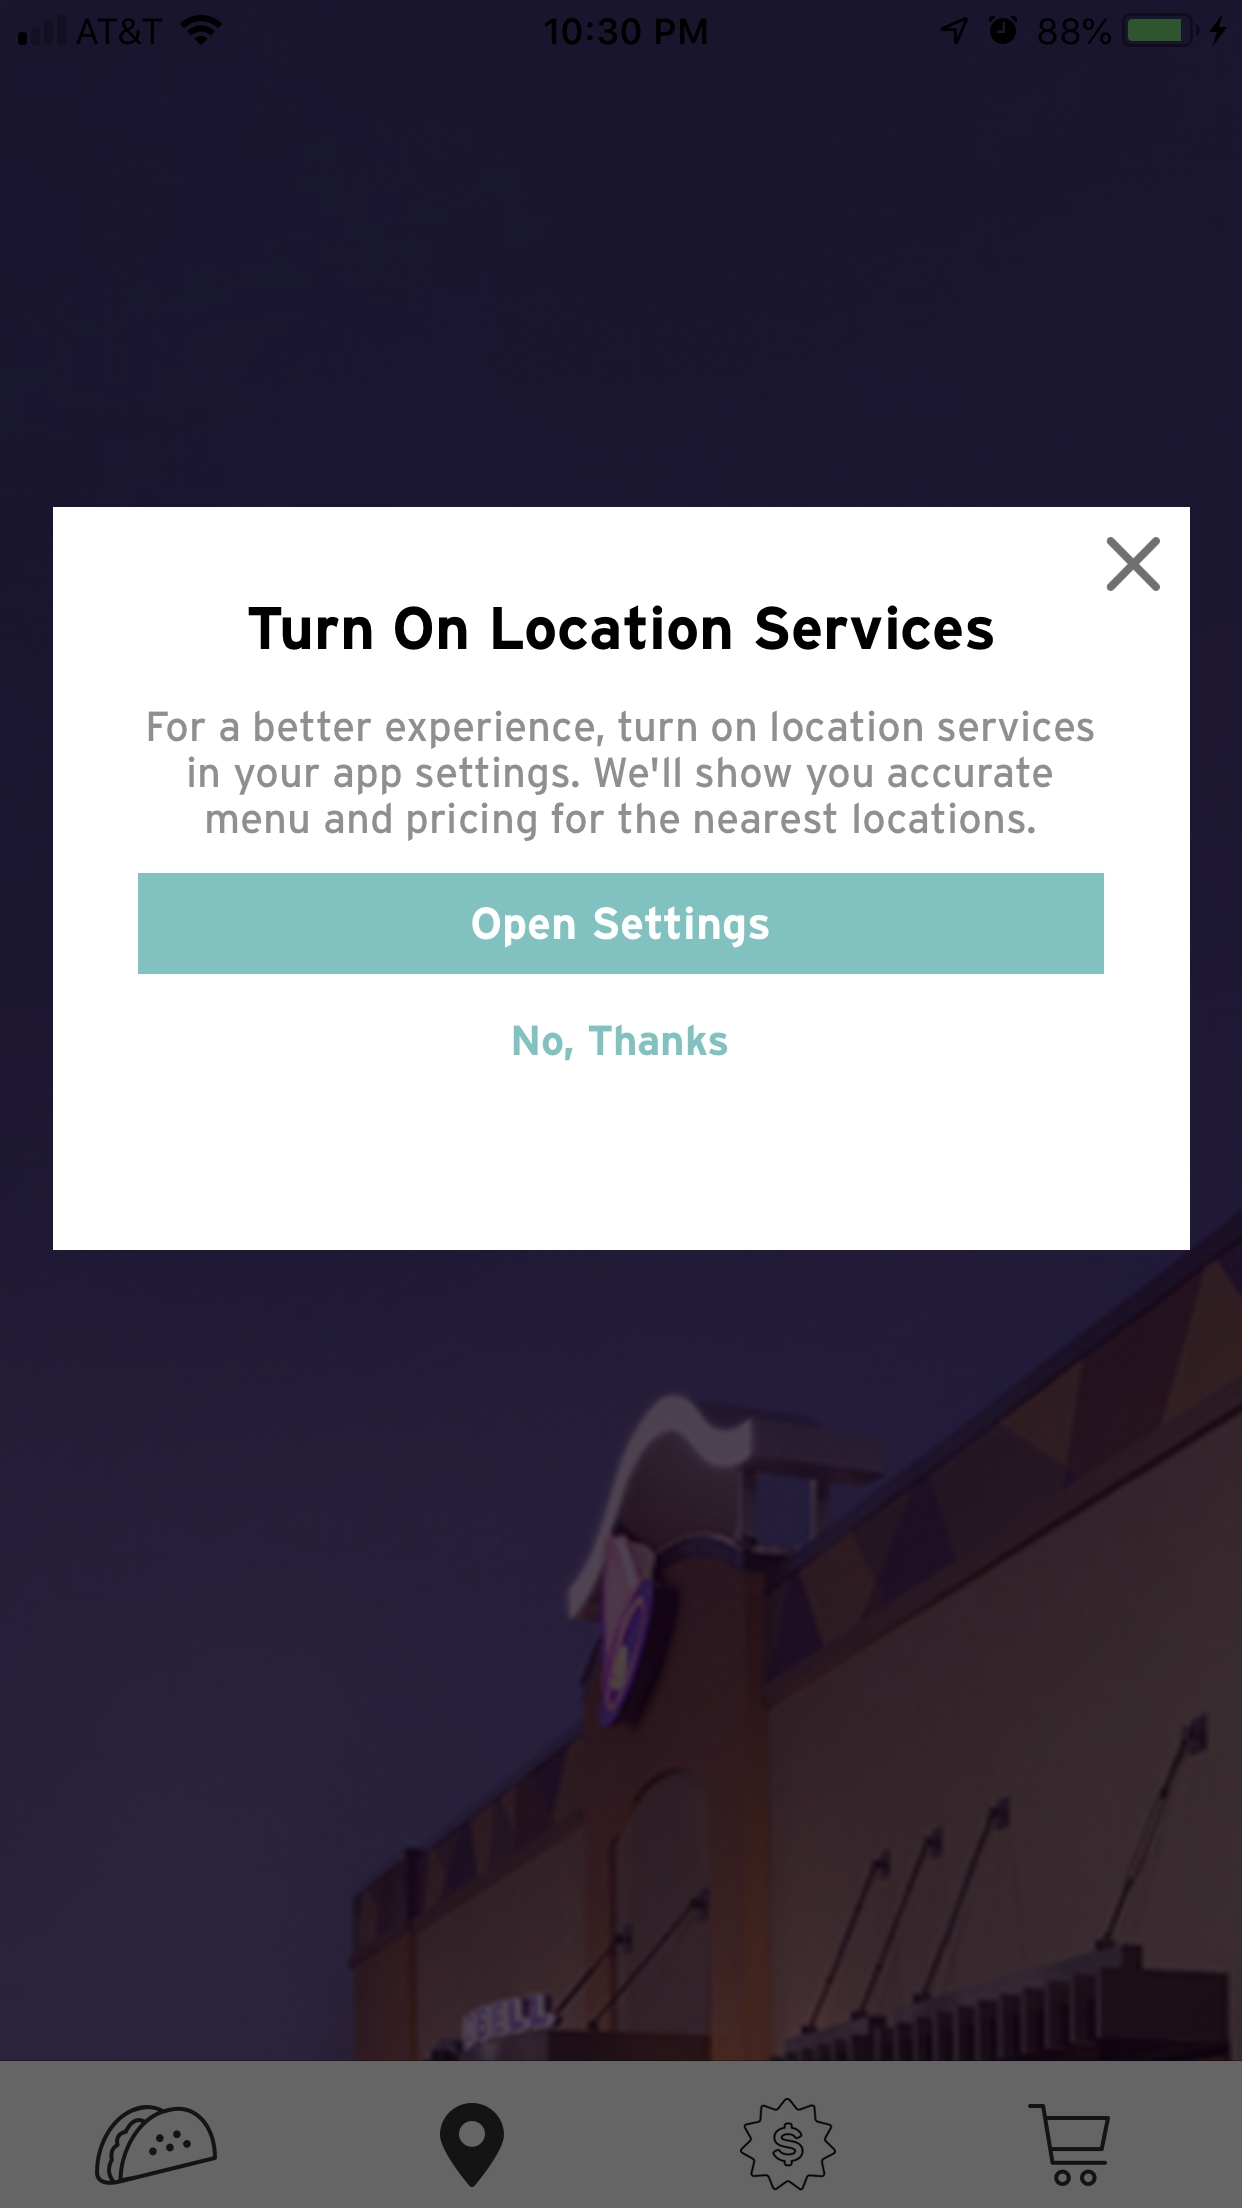Icon: (1106, 535, 1162, 593)
Modal: (53, 507, 1190, 1251)
Text: (149, 710, 1095, 842), (249, 604, 995, 651), (513, 1024, 729, 1062)
TextButton: (138, 873, 1106, 975)
UpperTaskBar: (2, 2, 1242, 49)
